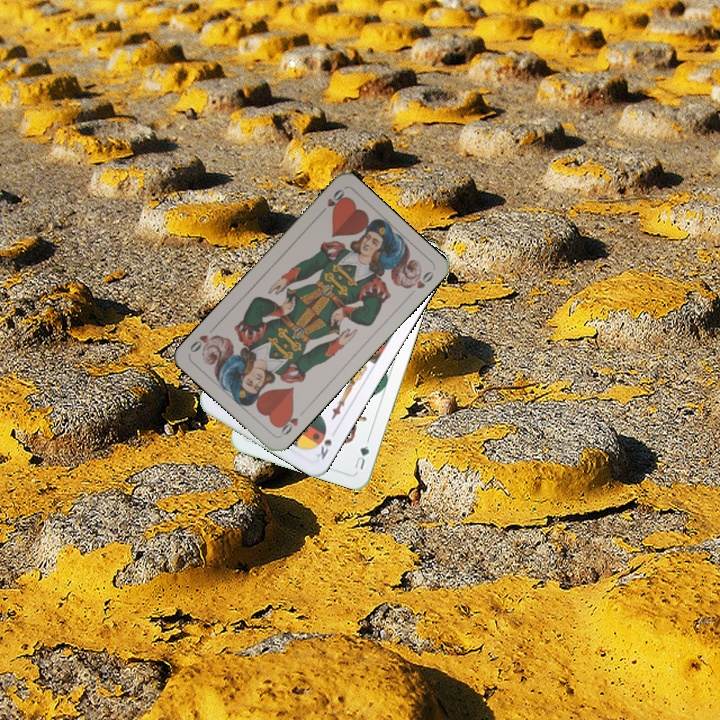GU: (350, 440, 372, 472)
HO: (315, 185, 347, 218), (274, 407, 301, 438)
SK: (312, 427, 334, 462)
